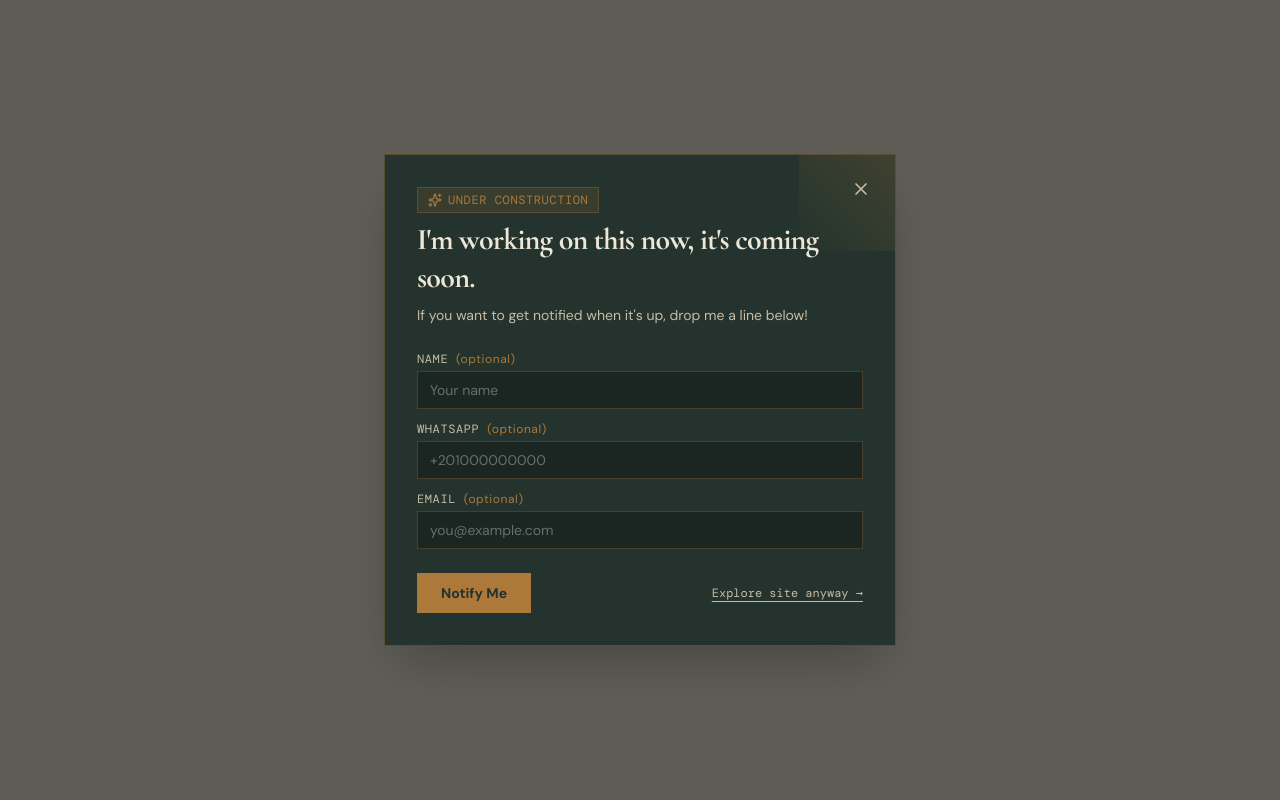
Test case: ComingSoonModal Component › displays error if submitted with neither WhatsApp nor Email
Step 1. Click the button "Notify Me" → {"x": 474, "y": 593}, box [417,573,531,613]
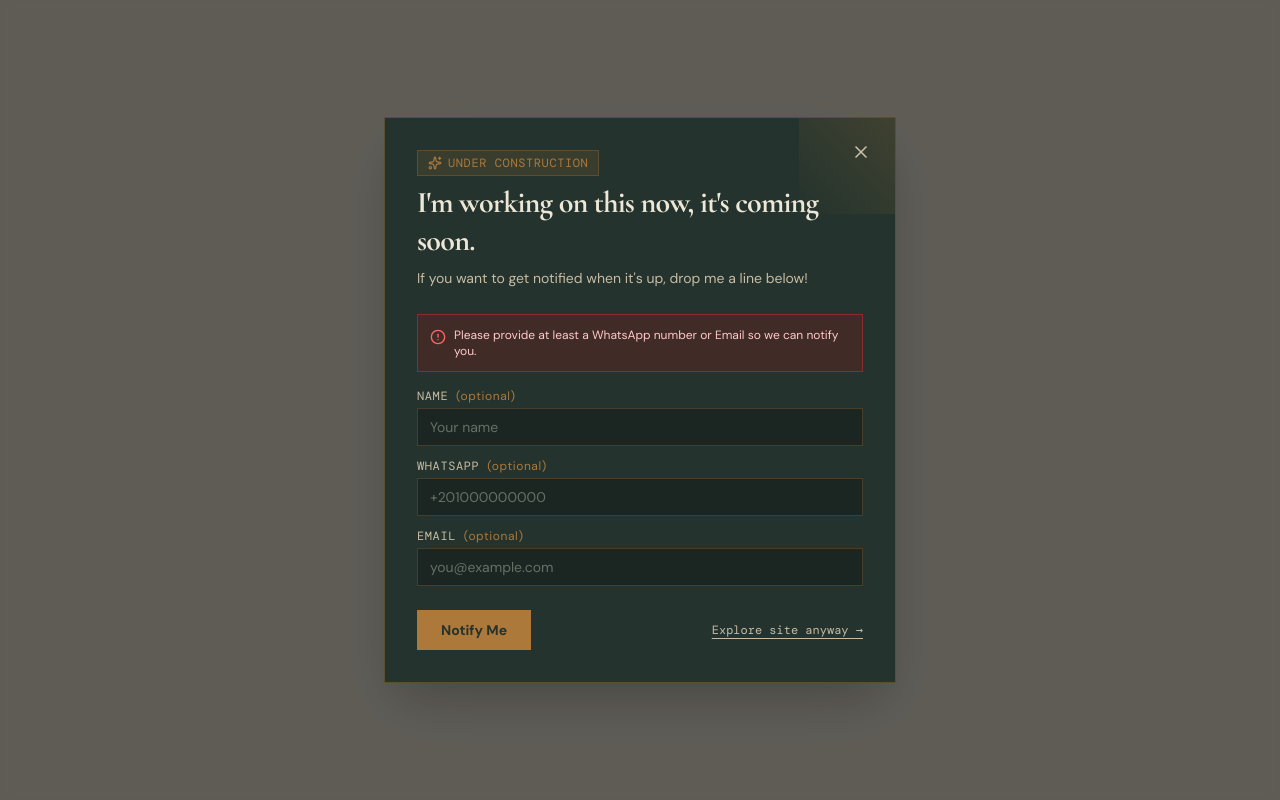
Expected: the text "Please provide at least a WhatsApp number or Email" is shown, [454,327,838,359]
